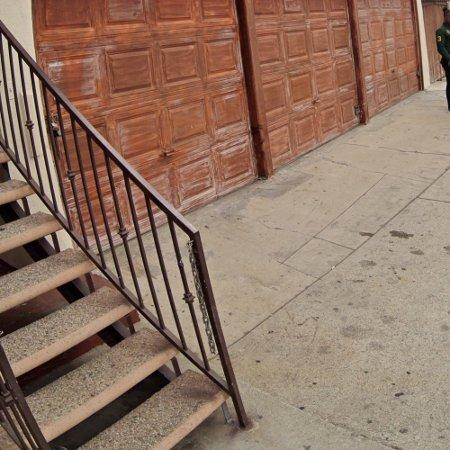stairs: (0, 21, 249, 450)
